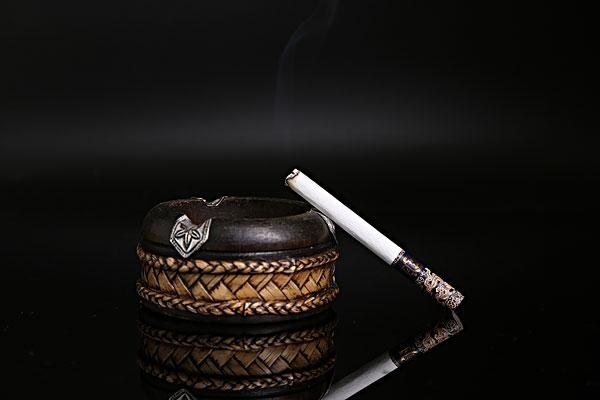smoke: (280, 162, 468, 312), (284, 314, 479, 399)
